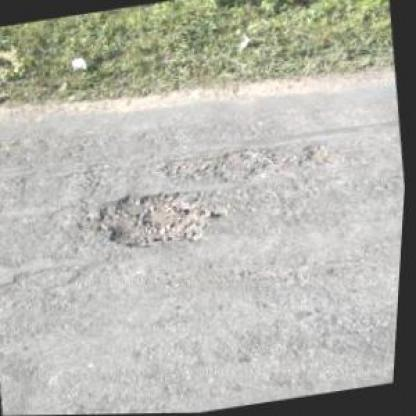pothole: (90, 180, 225, 258), (161, 142, 292, 194), (295, 140, 351, 175)
